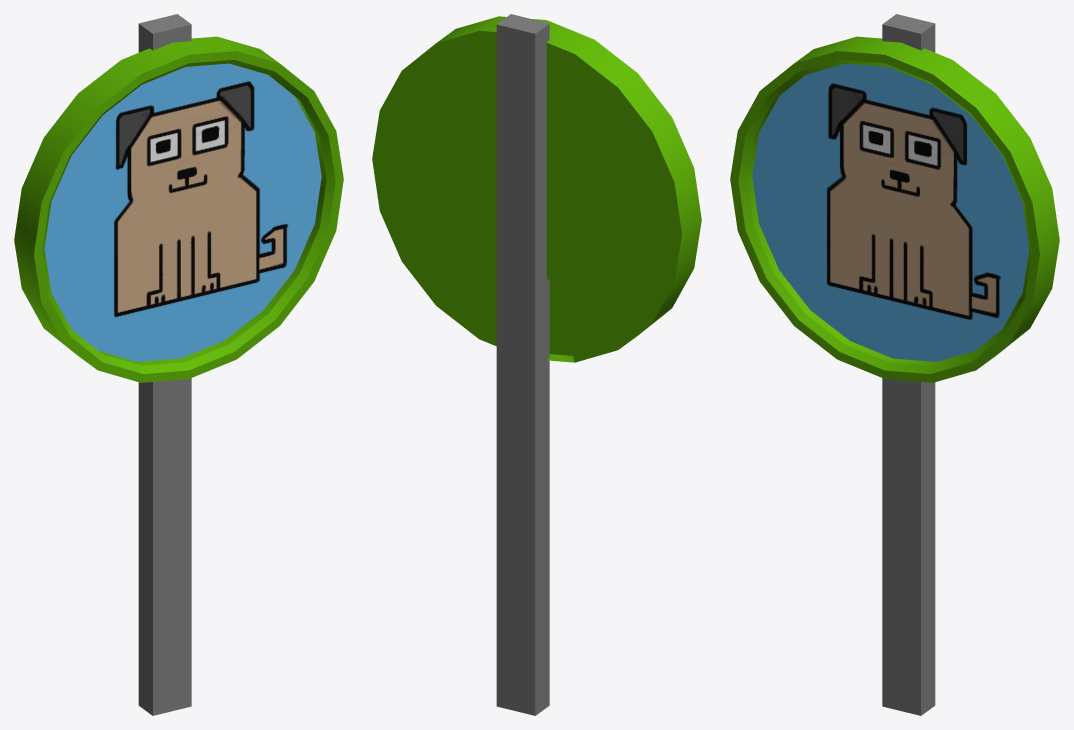
File: dog_sign.fbx
3 renders of one model, left to right at view 1: azimuth 30°, elevation 25°; view 2: azimuth 150°, elevation 25°; view 3: azimuth 330°, elevation 25°, orthographic.
Parts seen in each view (by area): view 1: yesdogs_sign, pCube5; view 2: yesdogs_sign, pCube5; view 3: yesdogs_sign, pCube5.
Part boxes in pixels (box(x1,y1,x2,y2)): yesdogs_sign: box(14, 36, 343, 382); pCube5: box(138, 14, 191, 715); yesdogs_sign: box(372, 16, 701, 362); pCube5: box(496, 14, 549, 715); yesdogs_sign: box(730, 36, 1059, 382); pCube5: box(882, 14, 935, 715).
Size of the model in its own units: 7.96 by 16.75 by 1.37.
3 materials, 1 textured.
